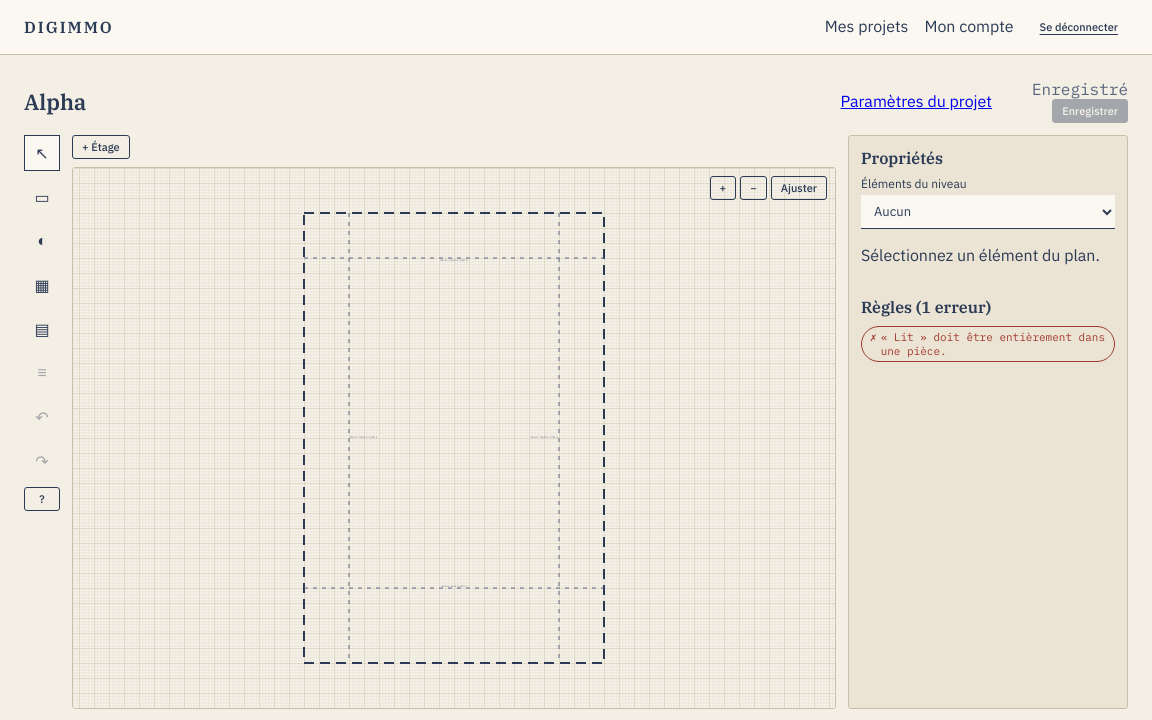
Test: cycle de vie et erreurs › plan hors limites : aucun PUT, message lisible avec les anomalies
Expected: the picture named "Plan du projet" is shown, [73, 168, 835, 708]
Click the button "+ Étage" at (101, 147), box [72, 135, 130, 159]
Wait 3100 ms
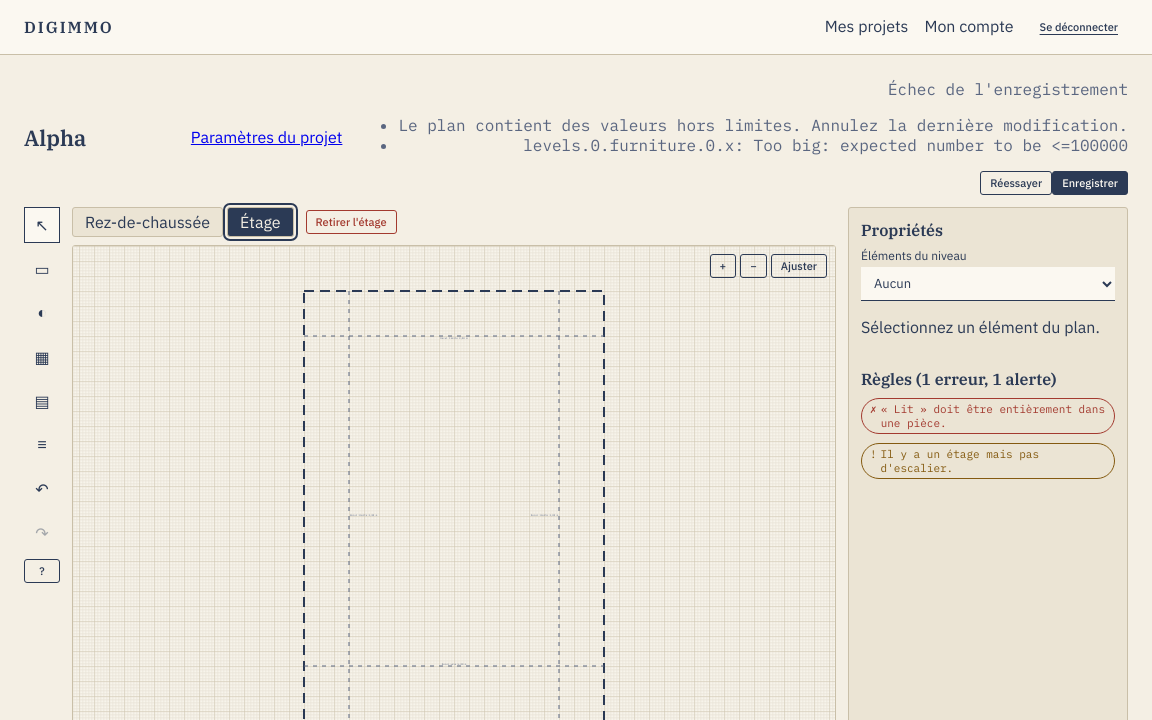
Expected: the text "Échec de l'enregistrement" is shown, [888, 79, 1128, 99]
Expected: the list item "Le plan contient des valeurs hors limites. Annulez la dernière modification." is shown, [398, 115, 1128, 135]
Expected: the list item "levels.0.furniture.0.x" is shown, [523, 135, 1128, 155]
